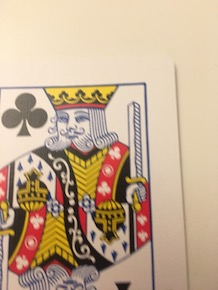KingOfClubs: (3, 56, 188, 290)
